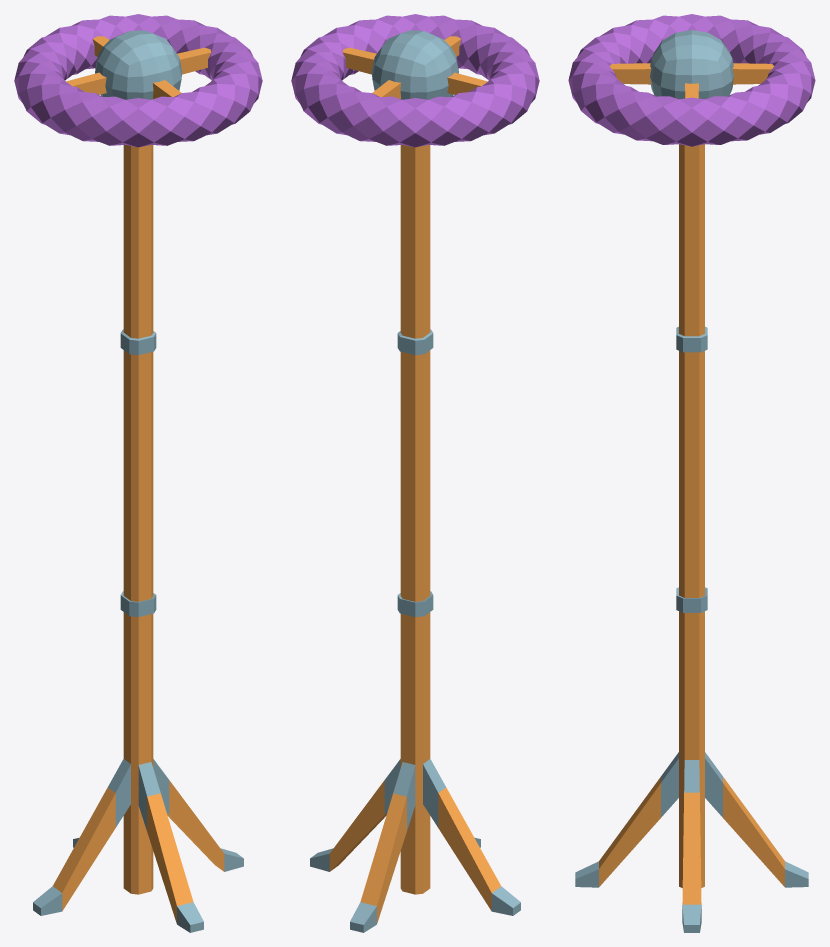
The model's file is poteaux_final.glb.
3 views of the same model, side by side, from view 1: azimuth 30°, elevation 25°; view 2: azimuth 150°, elevation 25°; view 3: azimuth 270°, elevation 25° (orthographic).
Visible parts, largest first — view 1: Cube, Torus, Light; view 2: Cube, Torus, Light; view 3: Cube, Torus, Light.
Boxes of the visible parts, x1=… form: Cube: x1=33, y1=36, x2=243, y2=932; Torus: x1=14, y1=14, x2=262, y2=147; Light: x1=95, y1=30, x2=182, y2=99; Cube: x1=310, y1=36, x2=520, y2=932; Torus: x1=291, y1=14, x2=539, y2=147; Light: x1=371, y1=30, x2=458, y2=99; Cube: x1=575, y1=63, x2=808, y2=932; Torus: x1=568, y1=14, x2=815, y2=146; Light: x1=650, y1=30, x2=733, y2=99.
Size of the model in its own units: 3.5 by 13.27 by 3.5.
